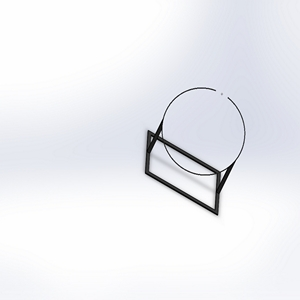circle: (144, 83, 247, 216)
